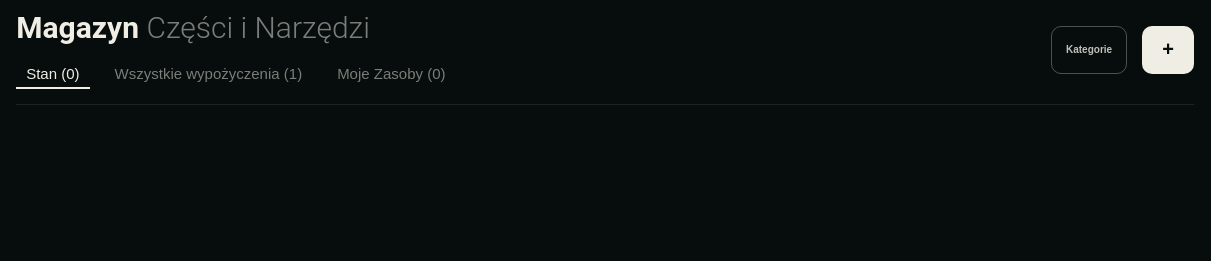
Test case: InventoryPage › renderuje dane wypożyczenia w tabeli
Click the button "Wszystkie wypożyczenia (1)": (208, 74) [105,60,312,89]
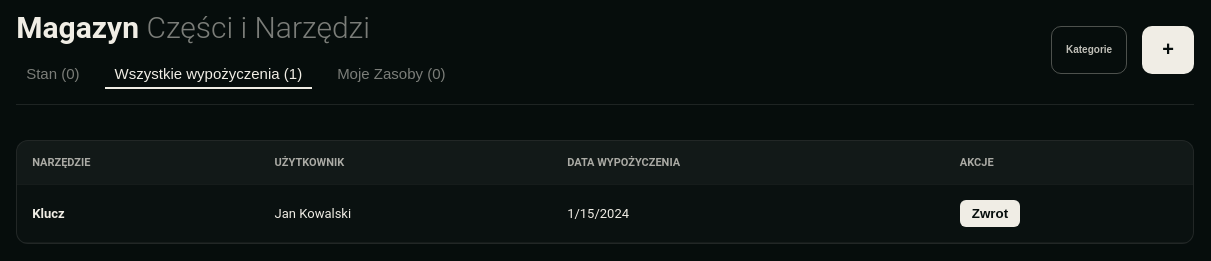
Now the text "Klucz" is shown, box [32,206,65,221]
Now the text "Jan Kowalski" is shown, box [260,184,552,242]
